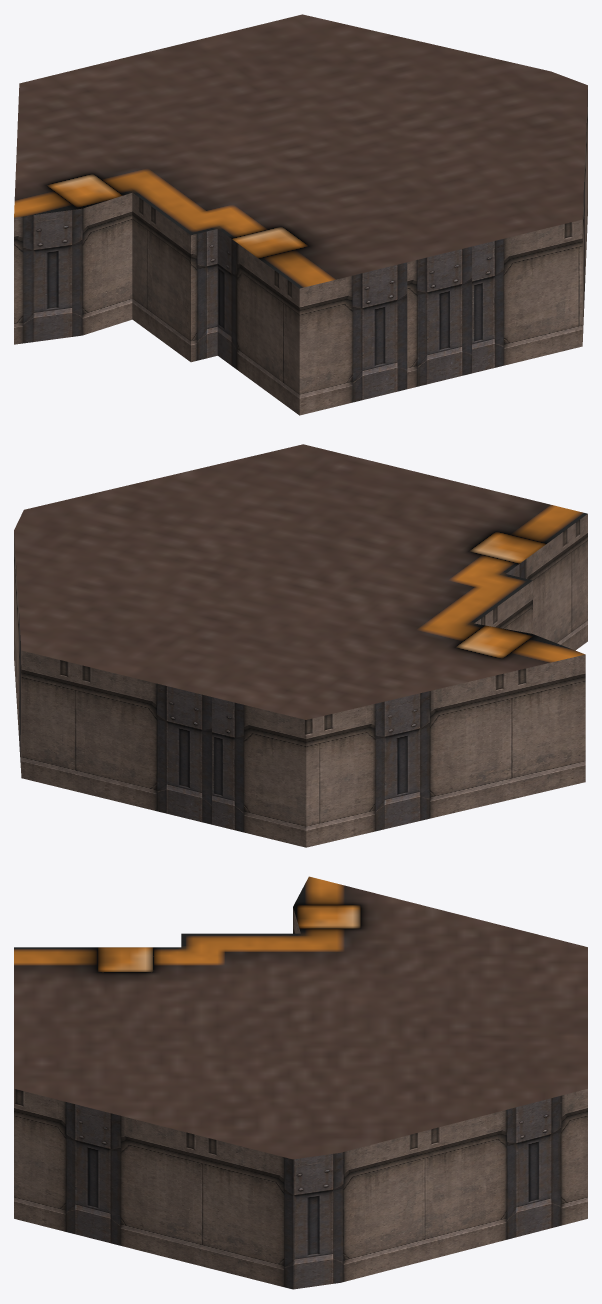
File: heavy_roof66.glb
3 renders of one model, top to bottom at view 1: azimuth 30°, elevation 25°; view 2: azimuth 150°, elevation 25°; view 3: azimuth 270°, elevation 25°, orthographic. The views are drawn at different scales.
Visible parts, largest first — view 1: buildings/saxarba/heavy/heavy_roof66; view 2: buildings/saxarba/heavy/heavy_roof66; view 3: buildings/saxarba/heavy/heavy_roof66.
Part boxes in pixels (x1,y1,x2,y2): buildings/saxarba/heavy/heavy_roof66: (14, 14, 587, 415); buildings/saxarba/heavy/heavy_roof66: (14, 444, 587, 847); buildings/saxarba/heavy/heavy_roof66: (14, 876, 587, 1289).
Size of the model in its own units: 84 by 18 by 72.
